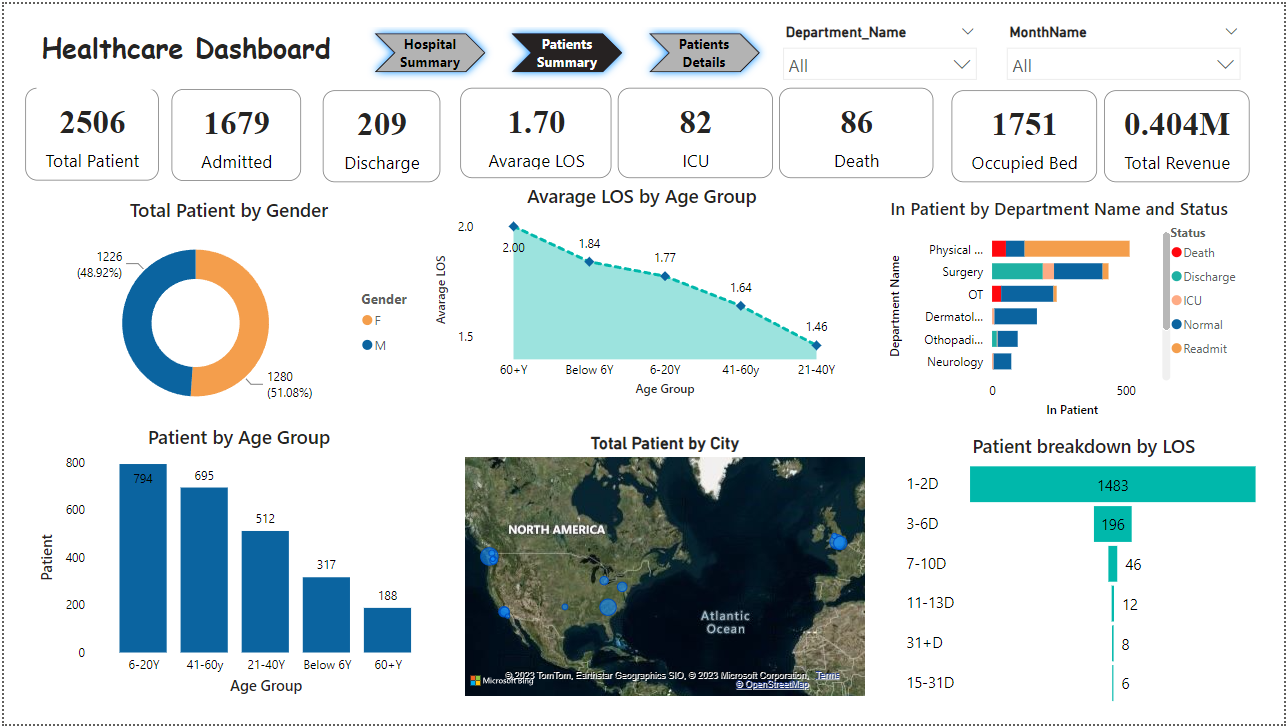

What the dashboard file says about the page in this screenshot:
{"tool":"powerbi","page":{"name":"Patients Summary ","canvas":[1280,720],"ordinal":1},"visuals":[{"type":"cardVisual","fields":{"Data":["Measure.Total Patient"]},"box":[21.2,86.2,132.5,93.8],"z":0},{"type":"textbox","box":[32.9,20.6,330.4,65.8],"z":1000},{"type":"slicer","fields":{"Values":["Department.Department_Name"]},"box":[769.2,15.1,213.9,71.3],"z":2000},{"type":"slicer","fields":{"Values":["Calendar_date.MonthName"]},"box":[992.6,15.1,253.6,71.3],"z":3000},{"type":"cardVisual","fields":{"Data":["Measure.In Patient"]},"box":[167.5,85.6,129.6,91.7],"z":4000},{"type":"cardVisual","fields":{"Data":["Measure.Total Discharge"]},"box":[319,86.8,117.4,91.7],"z":5000},{"type":"cardVisual","fields":{"Data":["Measure.Avarage LOS"]},"box":[456,84.3,151.6,90.5],"z":6000},{"type":"cardVisual","fields":{"Data":["Measure.ICU"]},"box":[613.7,84.3,155.2,90.5],"z":7000},{"type":"cardVisual","fields":{"Data":["Measure.Death"]},"box":[775,84.3,154,90.5],"z":8000},{"type":"cardVisual","fields":{"Data":["Measure.Occupied Bed"]},"box":[947.4,86.8,145.5,91.7],"z":9000},{"type":"cardVisual","fields":{"Data":["Measure.Total Revenue"]},"box":[1100.2,86.8,145.5,91.7],"z":10000},{"type":"donutChart","fields":{"Category":["Detail data dataset.Gender"],"Y":["Measure.Total Patient"]},"box":[20.8,191.9,407.1,228.6],"z":11000},{"type":"columnChart","fields":{"Y":["Measure.Total Patient"],"Category":["Detail data dataset.Age Bucket"]},"box":[31.4,420,407.1,275.7],"z":12000},{"type":"areaChart","fields":{"Y":["Measure.Avarage LOS"],"Category":["Detail data dataset.Age Bucket"]},"box":[427.8,178.5,420.5,218.8],"z":13000},{"type":"barChart","fields":{"Category":["Department.Department_Name"],"Y":["Measure.In Patient"],"Series":["Detail data dataset.Status"]},"box":[881.4,191.9,364.3,226.1],"z":14000},{"type":"funnel","title":"Patient breakdown by LOS","fields":{"Y":["Measure.Total Patient"],"Category":["Detail data dataset.Custom"]},"box":[897.2,429.1,364.3,277.5],"z":15000},{"type":"map","fields":{"Size":["Measure.Total Patient"],"Category":["Detail data dataset.City"]},"box":[456,429.1,409.5,267.7],"z":16000},{"type":"pageNavigator","box":[363.1,20.8,402.2,55],"z":17000}]}

Visuals, with their boxes in screenshot pixels (x1, y1, x2, y2), scaled from the page's 1280x720 canvas onto the 1287x727 screenshot:
cardVisual - Measure.Total Patient: 21/87/155/182
textbox: 33/21/365/87
slicer - Department.Department_Name: 773/15/988/87
slicer - Calendar_date.MonthName: 998/15/1253/87
cardVisual - Measure.In Patient: 168/86/299/179
cardVisual - Measure.Total Discharge: 321/88/439/180
cardVisual - Measure.Avarage LOS: 458/85/611/176
cardVisual - Measure.ICU: 617/85/773/176
cardVisual - Measure.Death: 779/85/934/176
cardVisual - Measure.Occupied Bed: 953/88/1099/180
cardVisual - Measure.Total Revenue: 1106/88/1253/180
donutChart - Detail data dataset.Gender x Measure.Total Patient: 21/194/430/425
columnChart - Measure.Total Patient x Detail data dataset.Age Bucket: 32/424/441/702
areaChart - Measure.Avarage LOS x Detail data dataset.Age Bucket: 430/180/853/401
barChart - Department.Department_Name x Measure.In Patient: 886/194/1253/422
"Patient breakdown by LOS" funnel: 902/433/1268/713
map - Measure.Total Patient x Detail data dataset.City: 458/433/870/704
pageNavigator: 365/21/769/77
